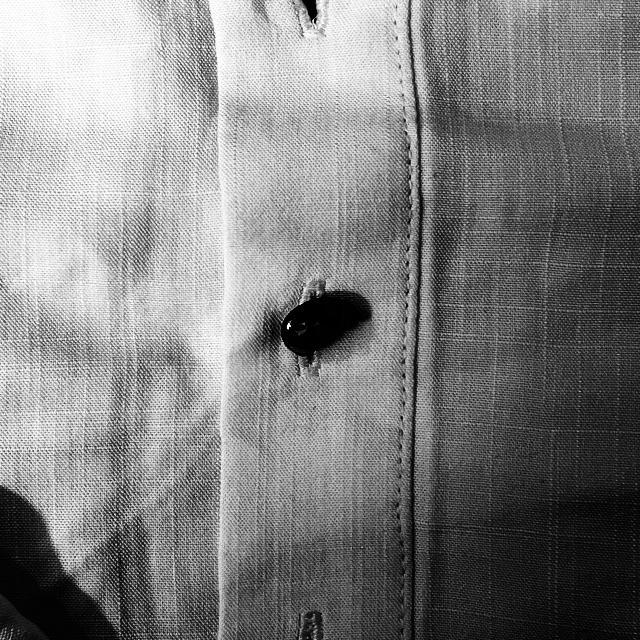Broken_button: (261, 281, 373, 372)
